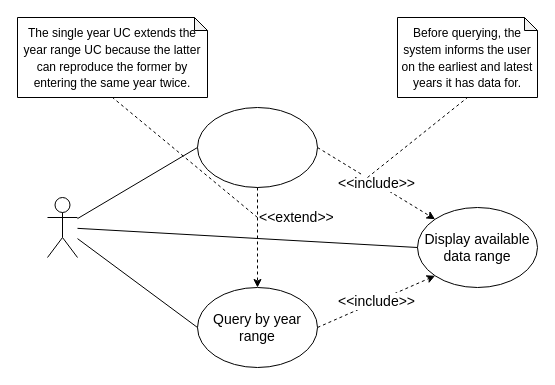
The diagram is 555 pixels wide and 385 high, and some of its shapes have lost their labels. The shapes that lost their labels are listed below. From the top down, each one's centre as x and y in pixels, then its label:
the point at 257,147: Query by single year
the point at 62,227: User
